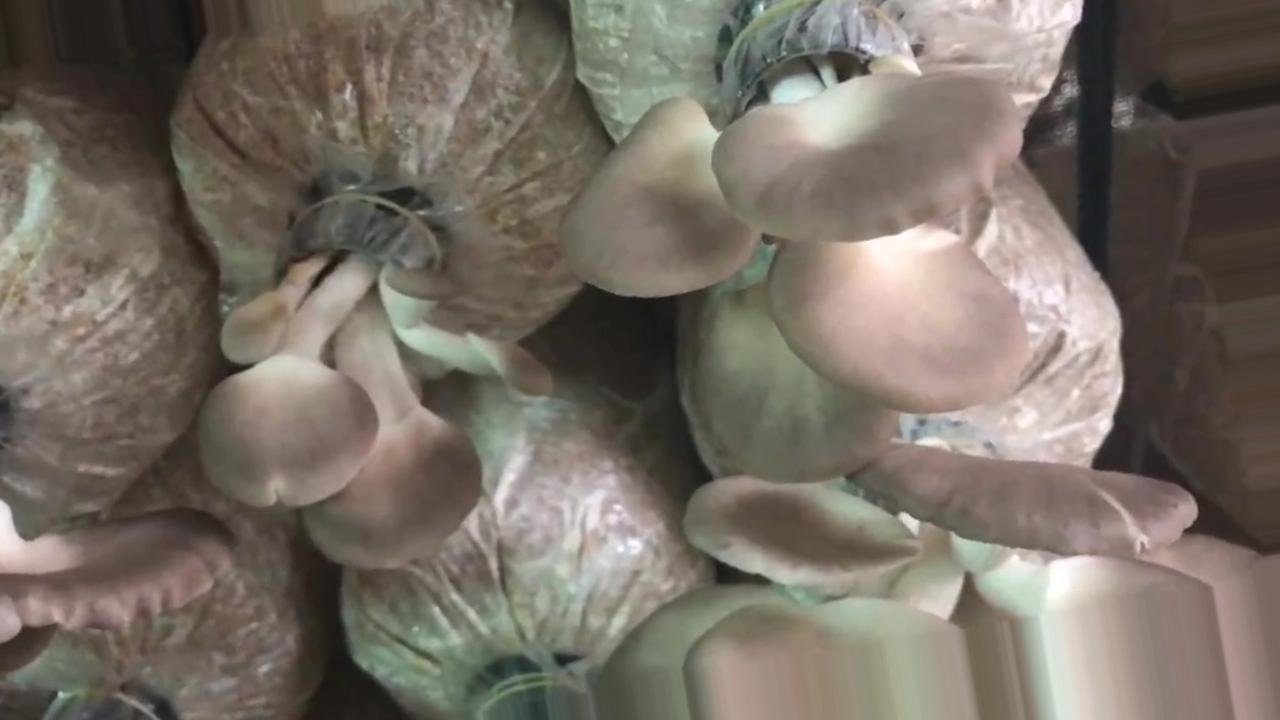nam: (567, 5, 1023, 487), (600, 443, 1280, 720), (206, 172, 545, 572), (1, 518, 216, 614)
